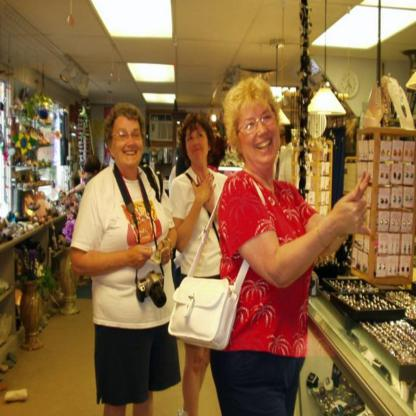face: (237, 101, 277, 164), (114, 115, 145, 167), (186, 125, 211, 158)
